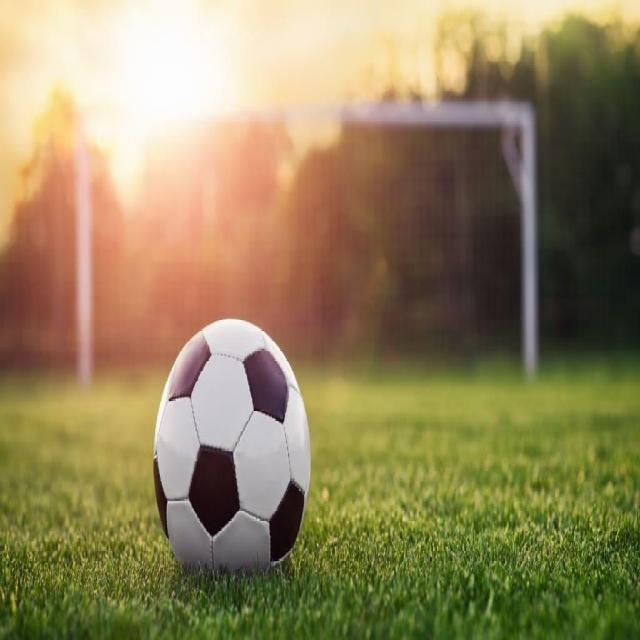Soccer Ball: (154, 319, 312, 582)
